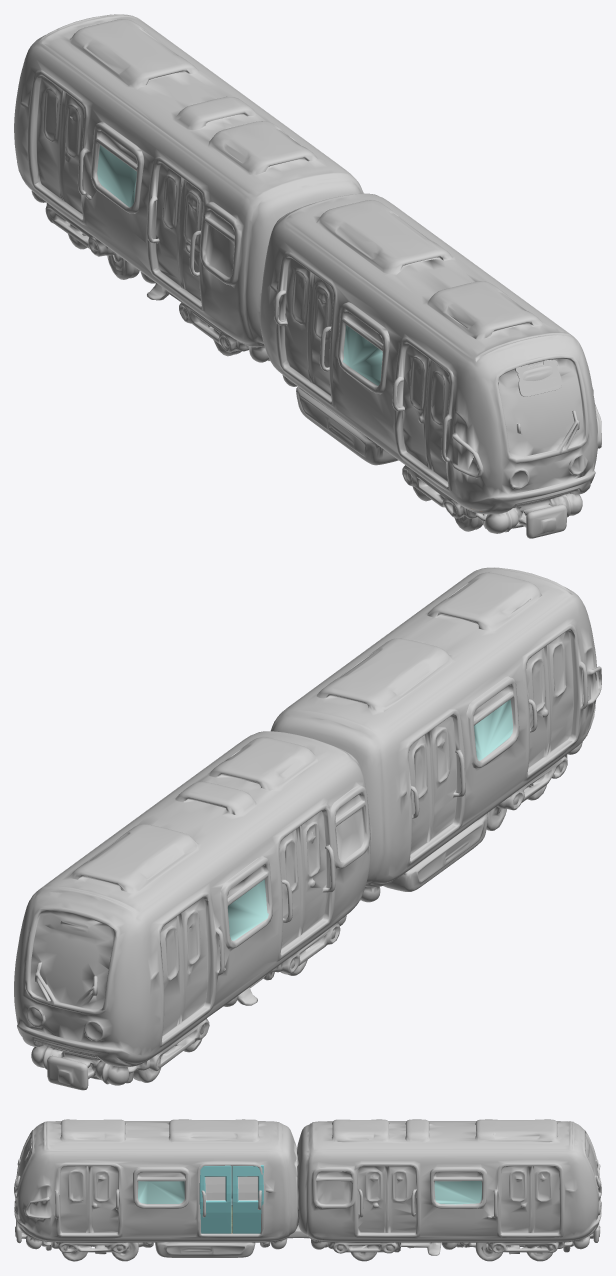
3 renders of one model, top to bottom at view 1: azimuth 30°, elevation 25°; view 2: azimuth 150°, elevation 25°; view 3: azimuth 270°, elevation 25°, orthographic. The views are drawn at different scales.
Parts seen in each view (by area): view 1: 列车; view 2: 列车; view 3: 列车, 车门2, 车门1.
Part boxes in pixels (box(x1,y1,x2,y2)): 列车: box(14, 14, 601, 538); 列车: box(14, 567, 601, 1090); 列车: box(14, 1119, 601, 1261); 车门2: box(199, 1165, 231, 1233); 车门1: box(232, 1165, 263, 1233).
Size of the model in its own units: 52.85 by 71.84 by 306.
